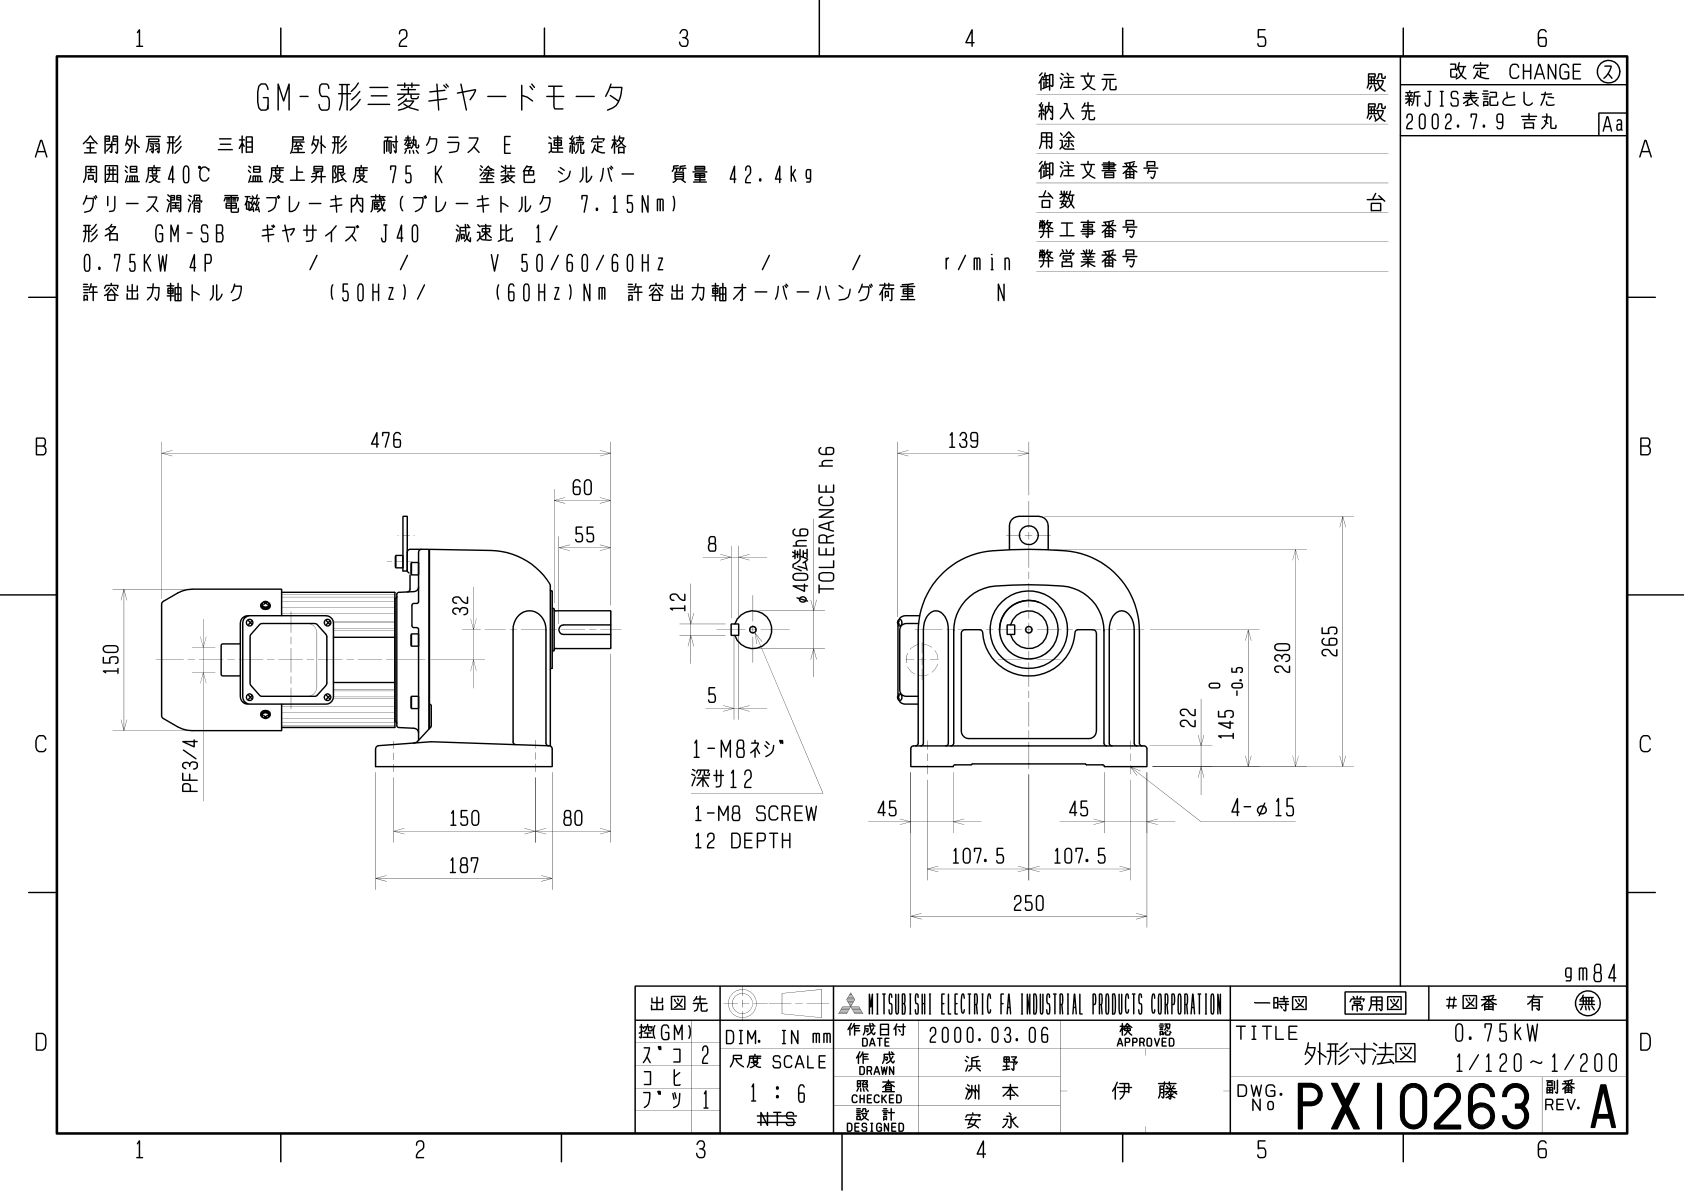GM_S_屋外＿三相_脚: (73, 375, 1375, 944)
